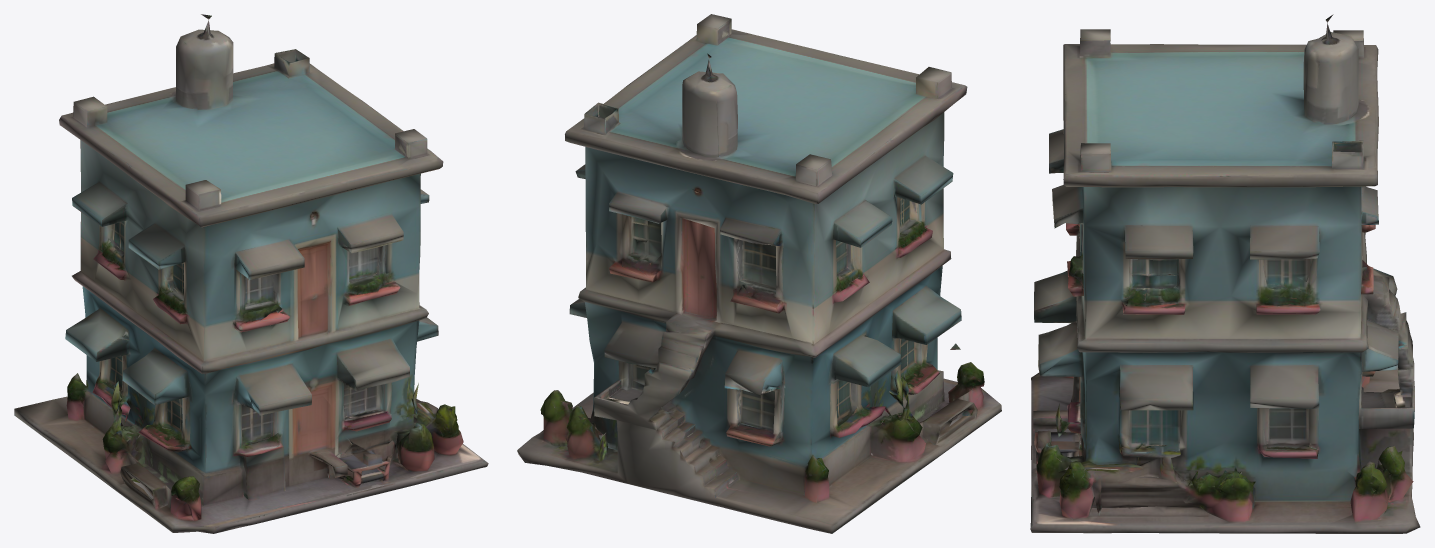
The model's file is IndianBuilding3 1.fbx.
3 renders of one model, left to right at view 1: azimuth 30°, elevation 25°; view 2: azimuth 150°, elevation 25°; view 3: azimuth 270°, elevation 25°, orthographic. The views are drawn at different scales.
Visible parts, largest first — view 1: IndianBuilding3; view 2: IndianBuilding3; view 3: IndianBuilding3.
Boxes of the visible parts, bbox=[...] form: IndianBuilding3: bbox=[14, 14, 488, 533]; IndianBuilding3: bbox=[517, 14, 1001, 533]; IndianBuilding3: bbox=[1030, 14, 1420, 533].
Size of the model in its own units: 1136 by 1418 by 1125.
Materials: 1 (1 with a texture image).
